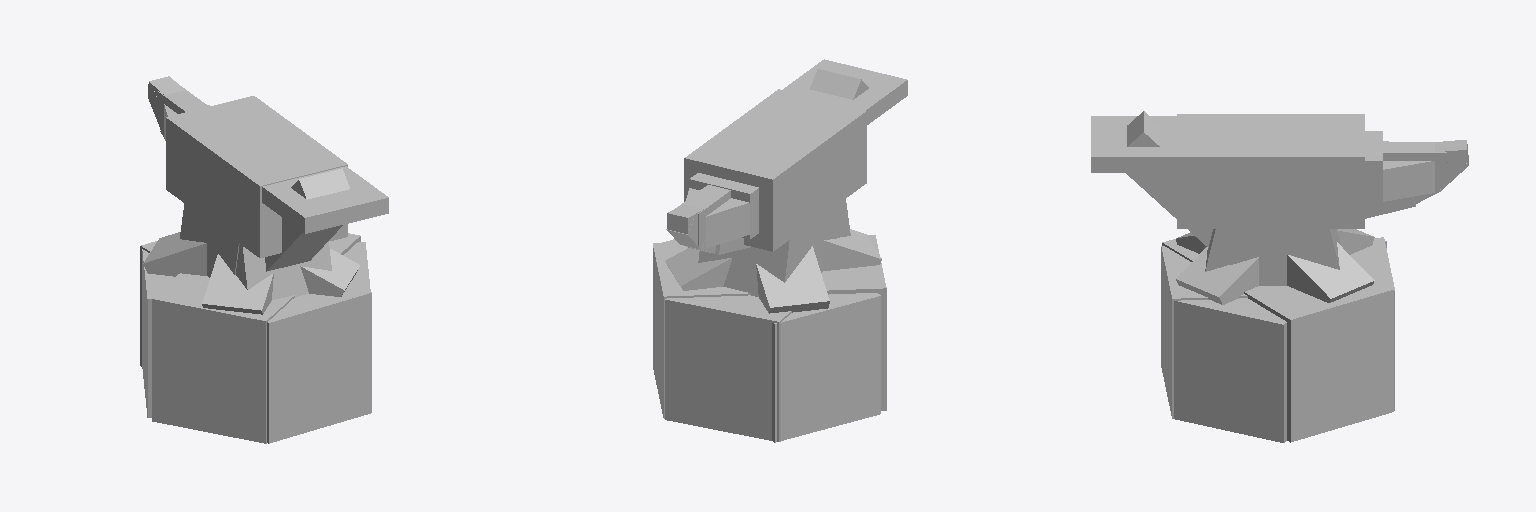
The model's file is anvil_on_log.obj.
The picture shows the model from 3 angles: view 1: azimuth 30°, elevation 25°; view 2: azimuth 150°, elevation 25°; view 3: azimuth 270°, elevation 25°; orthographic projection.
Parts seen in each view (by area): view 1: cube, cube.018, cube.000, cube.017, cube.014, cube.007, cube.005, cube.001, cube.002, cube.006, cube.004, cube.015; view 2: cube.018, cube.000, cube.001, cube, cube.006, cube.017, cube.002, cube.003, cube.007, cube.013, cube.009, cube.014 (+2 smaller); view 3: cube.018, cube, cube.001, cube.006, cube.017, cube.000, cube.003, cube.004, cube.014, cube.012, cube.015, cube.009 (+3 smaller).
Boxes of the visible parts, x1=… form: cube: x1=152, y1=233, x2=360, y2=443; cube.018: x1=166, y1=96, x2=347, y2=257; cube.000: x1=140, y1=241, x2=371, y2=443; cube.017: x1=262, y1=166, x2=388, y2=233; cube.014: x1=265, y1=168, x2=349, y2=271; cube.007: x1=202, y1=254, x2=273, y2=314; cube.005: x1=236, y1=242, x2=331, y2=299; cube.001: x1=142, y1=242, x2=370, y2=417; cube.002: x1=143, y1=232, x2=206, y2=276; cube.006: x1=180, y1=203, x2=239, y2=277; cube.004: x1=300, y1=249, x2=359, y2=296; cube.015: x1=158, y1=86, x2=208, y2=125; cube.018: x1=684, y1=89, x2=866, y2=251; cube.000: x1=665, y1=295, x2=791, y2=441; cube.001: x1=662, y1=239, x2=880, y2=442; cube: x1=653, y1=235, x2=886, y2=418; cube.006: x1=698, y1=200, x2=843, y2=296; cube.017: x1=783, y1=59, x2=907, y2=124; cube.002: x1=756, y1=246, x2=829, y2=313; cube.003: x1=665, y1=248, x2=731, y2=290; cube.007: x1=823, y1=229, x2=881, y2=270; cube.013: x1=706, y1=198, x2=749, y2=248; cube.009: x1=689, y1=173, x2=758, y2=238; cube.014: x1=810, y1=69, x2=868, y2=99; cube.018: x1=1177, y1=114, x2=1364, y2=228; cube: x1=1162, y1=239, x2=1393, y2=442; cube.001: x1=1174, y1=241, x2=1386, y2=442; cube.006: x1=1221, y1=229, x2=1340, y2=285; cube.017: x1=1091, y1=116, x2=1176, y2=172; cube.000: x1=1161, y1=237, x2=1394, y2=418; cube.003: x1=1287, y1=242, x2=1374, y2=302; cube.004: x1=1176, y1=247, x2=1258, y2=304; cube.014: x1=1126, y1=111, x2=1212, y2=247; cube.012: x1=1383, y1=161, x2=1434, y2=201; cube.015: x1=1383, y1=142, x2=1446, y2=184; cube.009: x1=1365, y1=131, x2=1382, y2=206.
Bounding box in the file's own units: 0.908 × 1.03 × 1.33.